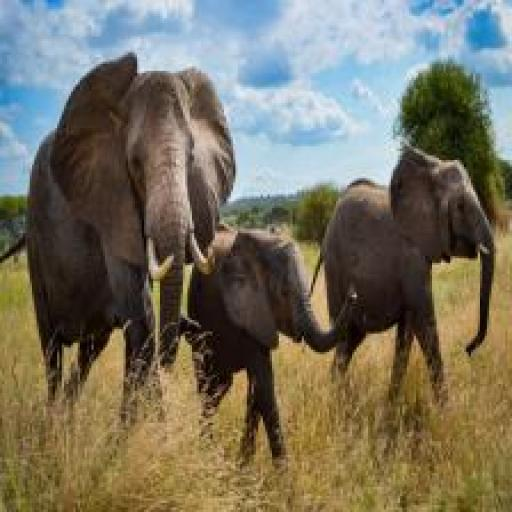Elephant: (9, 55, 237, 442), (313, 140, 505, 412), (192, 224, 357, 446)
